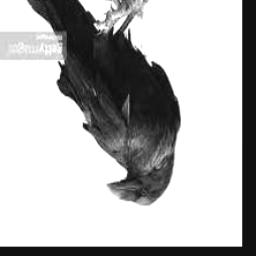Crow: (25, 0, 182, 208)
